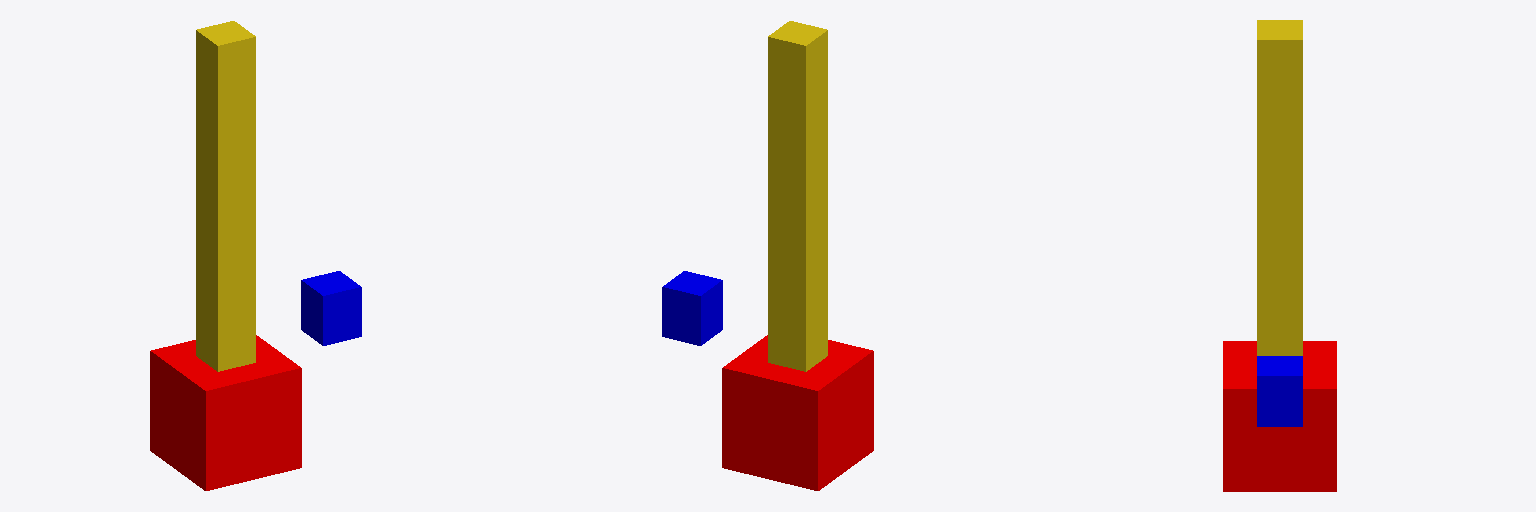
robot.urdf — lhand_forceps_robot:
<?xml version="1.0"?>
<robot name="lhand_forceps_robot">

  <link name="lhand_base_link">
    <visual>
      <geometry>
        <box size="0.2 0.2 0.2"/>
      </geometry>
      <material name="red">
        <color rgba="1 0 0 1"/>
      </material>
    </visual>
  </link>

  <link name="lhand_link">
    <visual>
      <origin rpy="0 0 0" xyz="0 0 0.3"/>
      <geometry>
        <box size="0.08 0.08 0.7"/>
      </geometry>
      <material name="green">
        <color rgba="0.9 0.8 0.1 1"/>
      </material>
    </visual>
  </link>

  <link name="lhand_detach_link_0">
    <visual>
      <origin rpy="0 0 0" xyz="0.12 0 0.05"/>
      <geometry>
        <box size="0.08 0.08 0.1"/>
      </geometry>
      <material name="blue">
        <color rgba="0 0 1 1"/>
      </material>
    </visual>
  </link>

  <!--
    Joint limits are example values for XC330-T288-T with sample_trans (it is written later).
    effort: (Stall Torque [Nm]) * (mechanicalReduction in sample_trans) = 0.92 * 1.0
    velocity: (No Load Speed [rad/s]) / (mechanicalReduction in sample_trans) = (65 [rev/min] * 2 * pi / 60) / 1.0
  -->
  <joint name="lhand_joint" type="revolute">
    <origin rpy="0 0 0" xyz="0 0 0.1"/>
    <parent link="lhand_base_link"/>
    <child link="lhand_link"/>
    <axis xyz="0 1 0"/>
    <limit lower="-12.566" upper="12.566" effort="2.00" velocity="6.8"/>
  </joint>

  <joint name="lhand_detach_joint_0" type="continuous">
    <origin rpy="0 0 0" xyz="0.1 0 0.1"/>
    <parent link="lhand_base_link"/>
    <child link="lhand_detach_link_0"/>
    <axis xyz="0 1 0"/>
    <limit effort="2.0" velocity="6.8"/>
  </joint>

  <transmission name="lhand_trans">
    <type>transmission_interface/SimpleTransmission</type>
    <joint name="lhand_joint">
      <hardwareInterface>hardware_interface/PositionJointInterface</hardwareInterface>
      <hardwareInterface>hardware_interface/EffortJointInterface</hardwareInterface>
      <offset>0.0</offset>
    </joint>
    <actuator name="lhand_motor">
      <mechanicalReduction>1.0</mechanicalReduction>
    </actuator>
  </transmission>

  <transmission name="lhand_detach_trans_0">
    <type>transmission_interface/SimpleTransmission</type>
    <joint name="lhand_detach_joint_0">
      <hardwareInterface>hardware_interface/PositionJointInterface</hardwareInterface>
      <hardwareInterface>hardware_interface/EffortJointInterface</hardwareInterface>
      <offset>0.0</offset>
    </joint>
    <actuator name="lhand_detach_motor_0">
      <mechanicalReduction>1.0</mechanicalReduction>
    </actuator>
  </transmission>


  <!-- Dynamixel motor (ros2_control, dynamixel_hardware_interface) -->
  <ros2_control name="lhand_forceps" type="system">
    <hardware>
      <plugin>dynamixel_hardware_interface/DynamixelHardware</plugin>
      <param name="port_name">/dev/lhand</param>
      <param name="baud_rate">57600</param>
      <param name="number_of_joints">1</param>
      <param name="number_of_transmissions">1</param>
      <param name="dynamixel_model_folder">/param/dxl_model</param>
      <param name="disable_torque_at_init">true</param>
      <param name="error_timeout_ms">1000</param>
      <param name="dynamixel_state_pub_msg_name">forceps/dxl_state</param>
      <param name="get_dynamixel_data_srv_name">forceps/get_dxl_data</param>
      <param name="set_dynamixel_data_srv_name">forceps/set_dxl_data</param>
      <param name="reboot_dxl_srv_name">forceps/reboot_dxl</param>
      <param name="set_dxl_torque_srv_name">forceps/set_dxl_torque</param>
      <param name="protocol_version">2.0</param>
      <param name="initialize_communication_on_configure">true</param>
    </hardware>
    <gpio name="lhand_motor">
      <param name="ID">6</param>
      <param name="type">dxl</param>
      <param name="Return Delay Time">0</param>
      <param name="Operating Mode">5</param>
      <param name="Torque Enable">1</param>
      <param name="[unit info]">Present Current,0.00115,N m,signed,0.0;Goal Current,0.00115,N m,signed,0.0</param>
      <command_interface name="Goal Position" />
      <command_interface name="Goal Current" />
      <state_interface name="Present Position" />
      <state_interface name="Present Velocity" />
      <state_interface name="Present Current" />
    </gpio>
    <joint name="lhand_joint">
      <command_interface name="position" />
      <command_interface name="effort" />
      <state_interface name="position" />
      <state_interface name="velocity" />
      <state_interface name="effort" />
      <state_interface name="hardware_state" />
      <state_interface name="torque_enable" />
    </joint>
  </ros2_control>
</robot>

--- Render facts (derived) ---
The picture shows the robot from 3 angles, left to right: view 1: azimuth 30°, elevation 25°; view 2: azimuth 150°, elevation 25°; view 3: azimuth 270°, elevation 25°; orthographic projection.
Model lhand_forceps_robot with 3 links and 2 joints (1 revolute, 1 continuous), rooted at lhand_base_link, posed every joint at zero.
Links seen in each view (by area): view 1: lhand_link, lhand_base_link, lhand_detach_link_0; view 2: lhand_link, lhand_base_link, lhand_detach_link_0; view 3: lhand_link, lhand_base_link, lhand_detach_link_0.
Boxes of the visible links, left/top/right/bottom form: lhand_link: left=196, top=21, right=255, bottom=371; lhand_base_link: left=150, top=335, right=301, bottom=490; lhand_detach_link_0: left=301, top=271, right=361, bottom=345; lhand_link: left=768, top=21, right=827, bottom=371; lhand_base_link: left=722, top=335, right=873, bottom=490; lhand_detach_link_0: left=662, top=271, right=722, bottom=345; lhand_link: left=1257, top=20, right=1302, bottom=355; lhand_base_link: left=1223, top=341, right=1336, bottom=491; lhand_detach_link_0: left=1257, top=356, right=1302, bottom=426.
Bounding box of the posed robot: 0.36 × 0.2 × 0.85 m (x, y, z).
Geometry: primitives only (box / cylinder / sphere), no mesh files.
